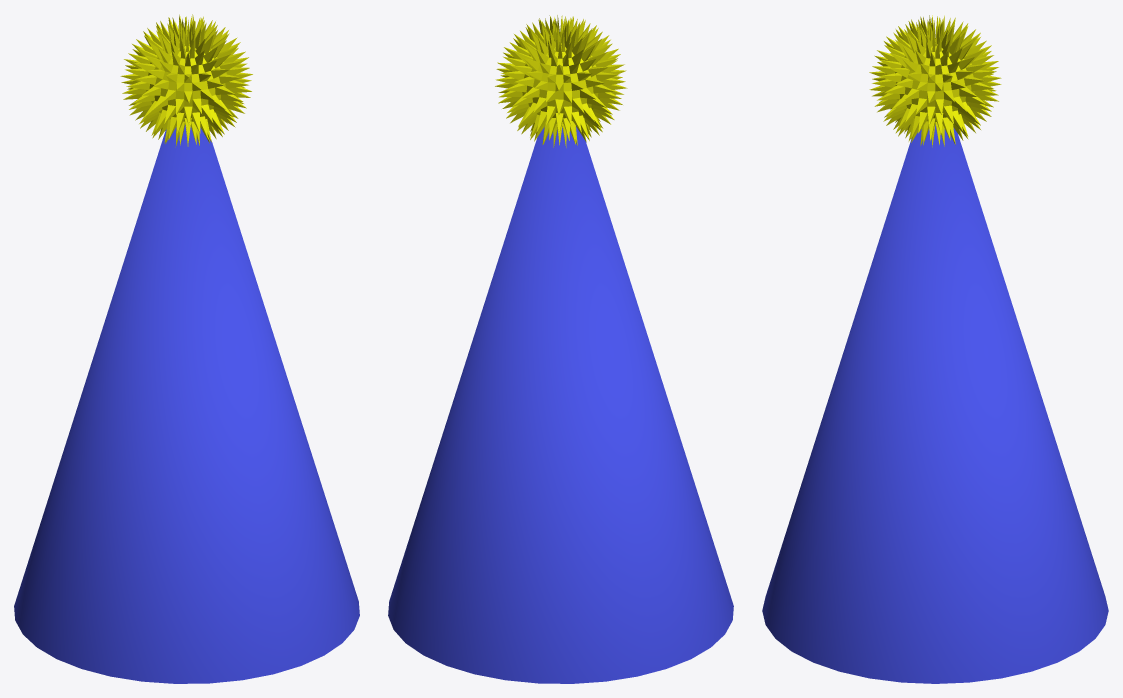
The model's file is hat1.glb.
3 views of the same model, side by side, from view 1: azimuth 30°, elevation 25°; view 2: azimuth 150°, elevation 25°; view 3: azimuth 270°, elevation 25° (orthographic).
Parts seen in each view (by area): view 1: Cone, Sphere; view 2: Cone, Sphere; view 3: Cone, Sphere.
Part boxes in pixels (x1,y1,x2,y2): Cone: [14, 125, 359, 683]; Sphere: [120, 14, 252, 147]; Cone: [388, 126, 733, 683]; Sphere: [495, 15, 627, 147]; Cone: [762, 124, 1108, 683]; Sphere: [869, 15, 1001, 147].
Size of the model in its own units: 0.12 by 0.2255 by 0.12.
